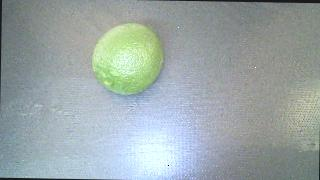EXPORTACION: (91, 22, 163, 95)
